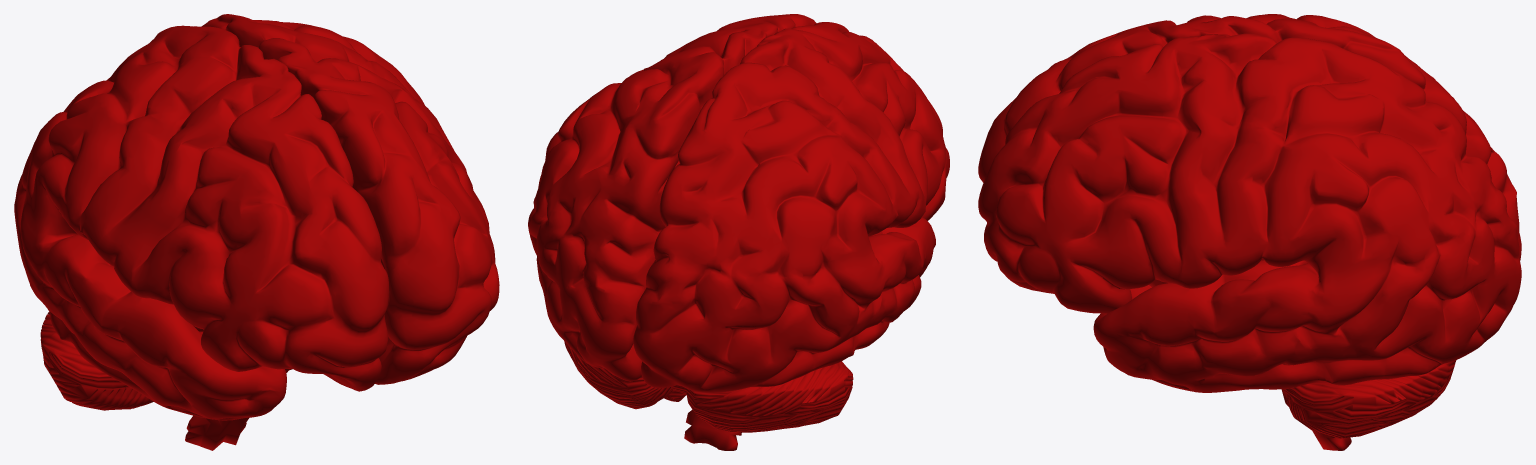
Rendered from redbrain.glb.
The picture shows the model from 3 angles, left to right: view 1: azimuth 30°, elevation 25°; view 2: azimuth 150°, elevation 25°; view 3: azimuth 270°, elevation 25°; orthographic projection. The views are drawn at different scales.
Parts seen in each view (by area): view 1: right hemisphere, left hemisphere, cerebellum, brainstem; view 2: right hemisphere, left hemisphere, cerebellum, brainstem; view 3: left hemisphere, right hemisphere, cerebellum, brainstem.
Part boxes in pixels (<box>): right hemisphere: <box>14,25,388,420</box>; left hemisphere: <box>201,14,499,384</box>; cerebellum: <box>40,312,292,410</box>; brainstem: <box>185,326,289,450</box>; right hemisphere: <box>633,22,949,392</box>; left hemisphere: <box>528,14,816,381</box>; cerebellum: <box>564,341,853,432</box>; brainstem: <box>684,409,741,450</box>; left hemisphere: <box>978,33,1521,392</box>; right hemisphere: <box>978,14,1521,260</box>; cerebellum: <box>1283,360,1456,438</box>; brainstem: <box>1149,259,1351,450</box>.
Bounding box in the file's own units: 3.8 × 4.02 × 4.73.
